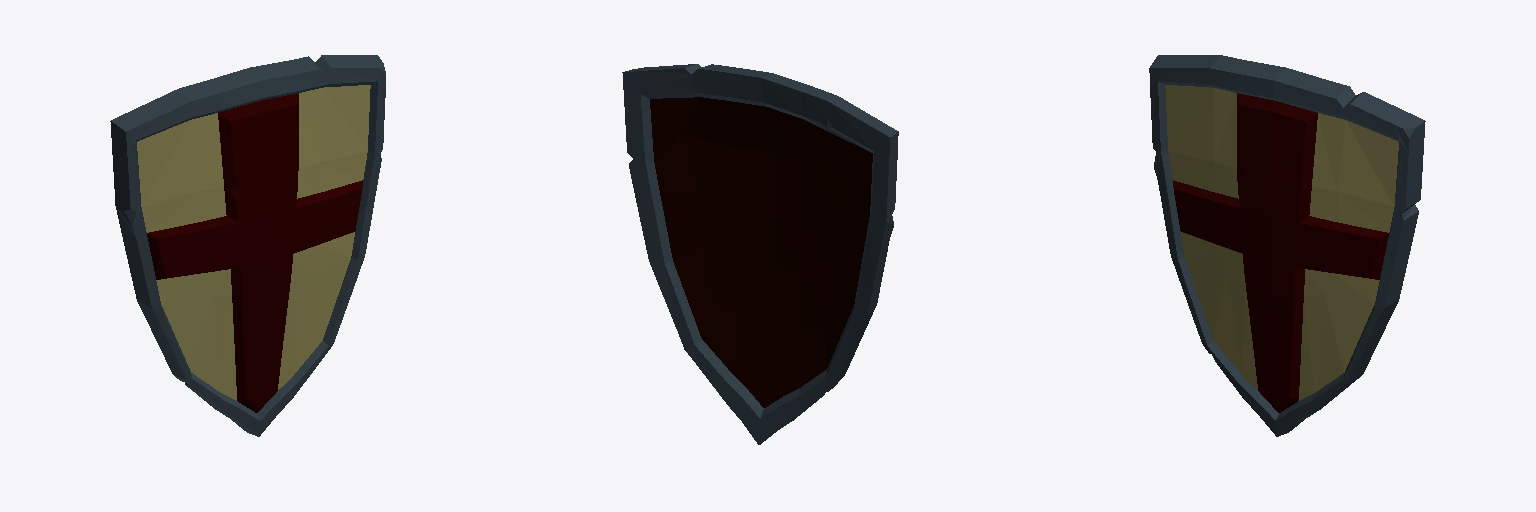
Rendered from KnightCross.obj.
The picture shows the model from 3 angles: view 1: azimuth 30°, elevation 25°; view 2: azimuth 150°, elevation 25°; view 3: azimuth 330°, elevation 25°; orthographic projection.
Visible parts, largest first — view 1: KnightCross_Plane.001; view 2: KnightCross_Plane.001; view 3: KnightCross_Plane.001.
Part boxes in pixels (x1,y1,x2,y2): KnightCross_Plane.001: (110,55,385,436); KnightCross_Plane.001: (622,64,898,444); KnightCross_Plane.001: (1149,55,1425,436).
Size of the model in its own units: 0.6589 by 0.8612 by 0.0991.